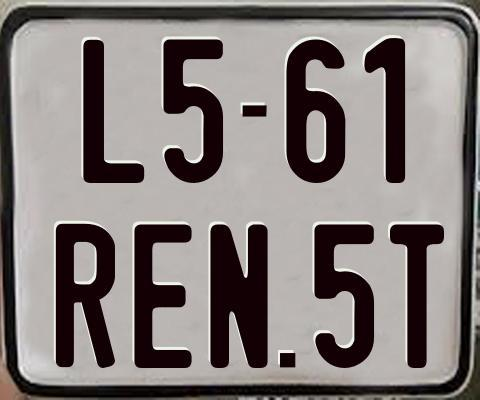1: (361, 38, 405, 189)
5: (311, 224, 376, 373), (162, 37, 222, 181)
6: (286, 36, 346, 181)
E: (132, 223, 190, 369)
L: (81, 39, 143, 188)
N: (208, 222, 266, 371)
R: (55, 224, 116, 374)
T: (387, 222, 446, 371)
